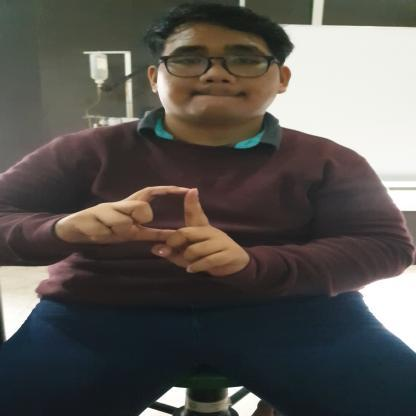D: (67, 186, 245, 276)
